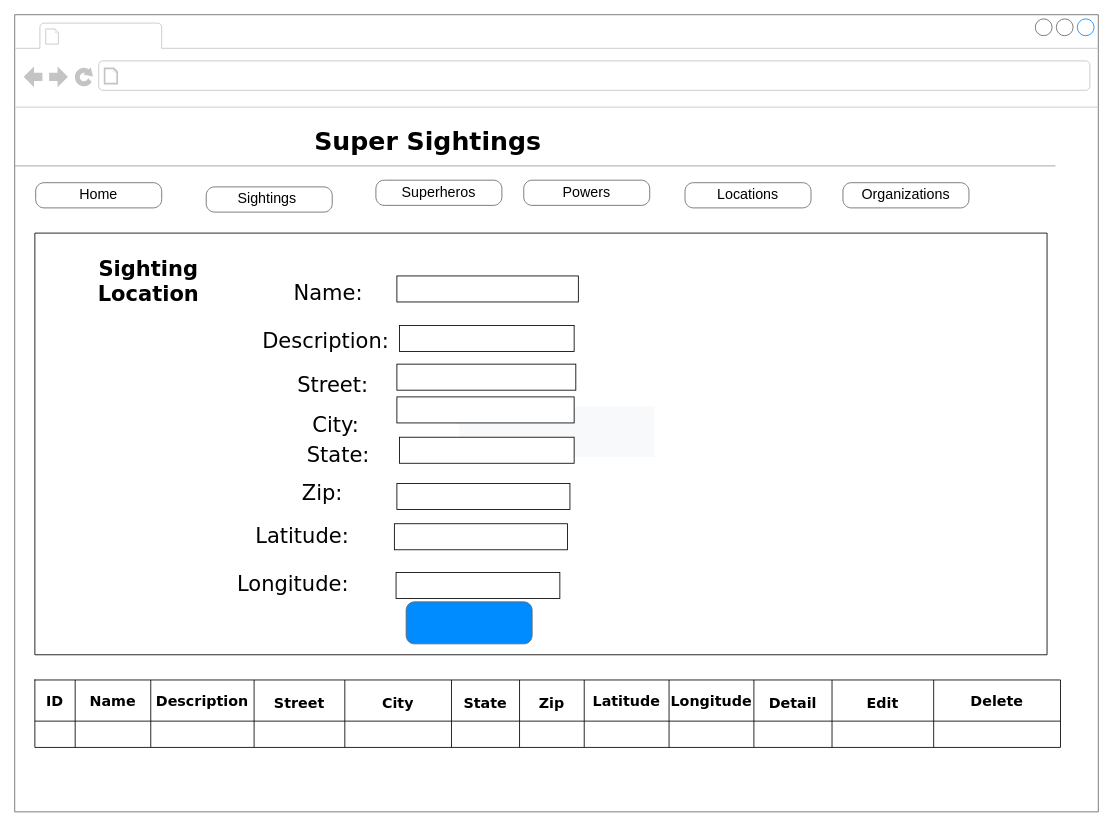
Image size: 1113x827. Some labels were removed from this diagram. Each missing label, with the centre of its shape:
"Add Location" goes at [468,622].
"https://localhost:8080/Locations" goes at [263,75].
"Page 5" goes at [111,35].
